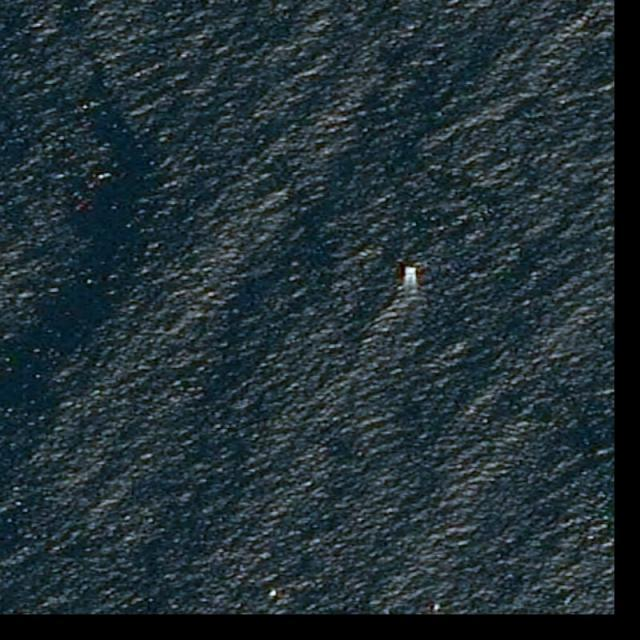ship: (404, 266, 417, 276)
